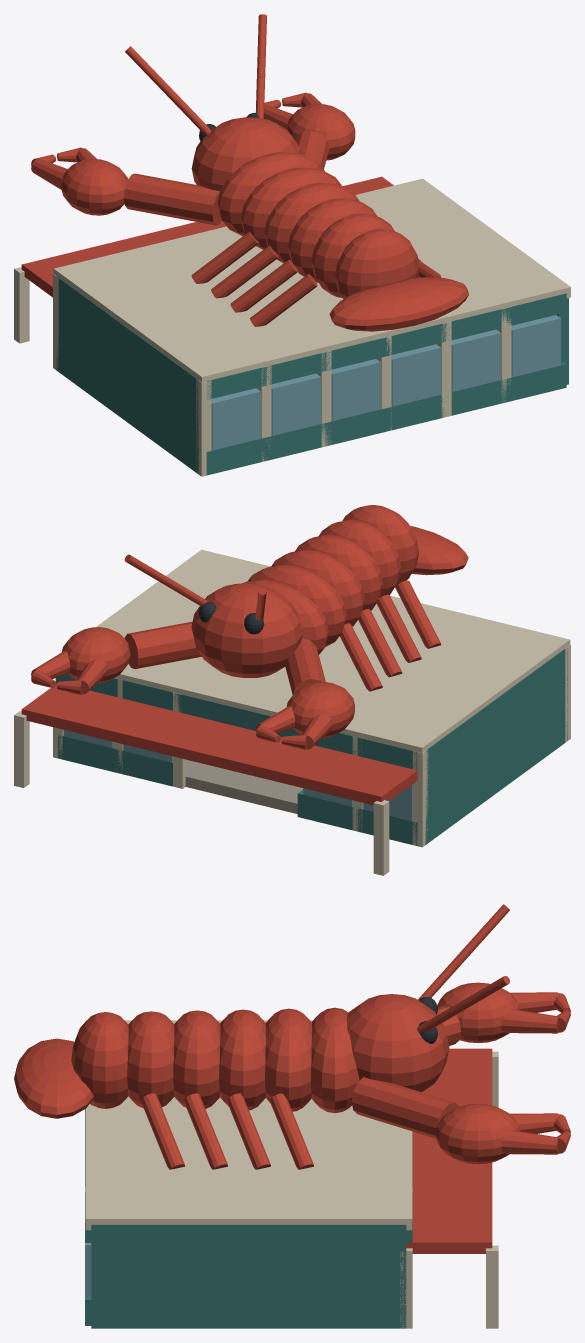
Rendered from big-pinch-diner.glb.
The picture shows the model from 3 angles, top to bottom: view 1: azimuth 30°, elevation 25°; view 2: azimuth 150°, elevation 25°; view 3: azimuth 270°, elevation 25°; orthographic projection. The views are drawn at different scales.
Visible parts, largest first — view 1: big-pinch-diner; view 2: big-pinch-diner; view 3: big-pinch-diner.
Boxes of the visible parts, left/top/right/bottom form: big-pinch-diner: left=14, top=14, right=570, bottom=476; big-pinch-diner: left=14, top=505, right=570, bottom=875; big-pinch-diner: left=14, top=904, right=570, bottom=1328.
Size of the model in its own units: 16.44 by 11.13 by 19.44.
